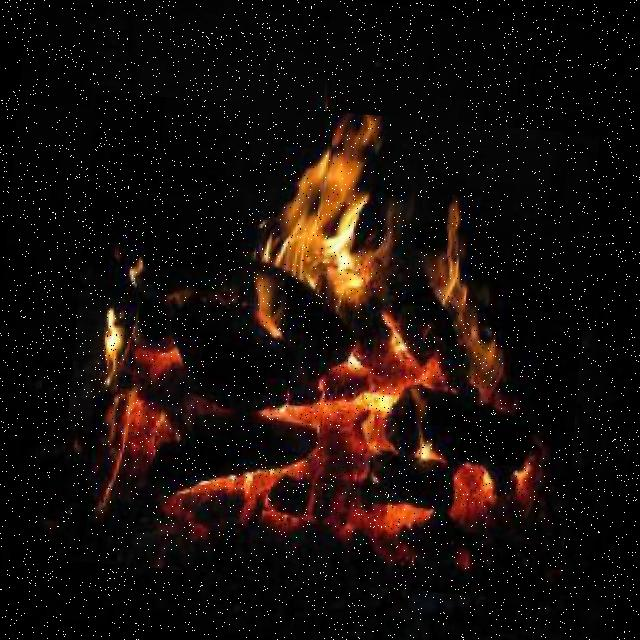fire: (55, 90, 599, 602)
